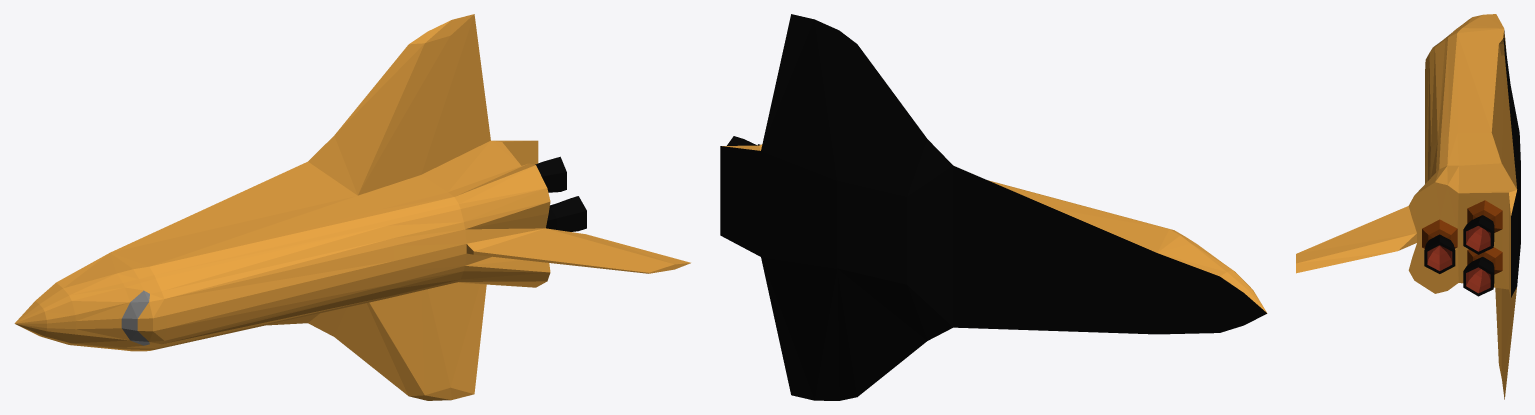
Rendered from shuttle.obj.
The picture shows the model from 3 angles, left to right: view 1: azimuth 30°, elevation 25°; view 2: azimuth 150°, elevation 25°; view 3: azimuth 270°, elevation 25°; orthographic projection. The views are drawn at different scales.
Parts seen in each view (by area): view 1: body, wings, tail, engout, windows, rearbody; view 2: tiles, body; view 3: body, rearbody, tail, wings, engmount, tiles, enginside, engrim, engout.
Part boxes in pixels (bbox=[...]): body: bbox=[14, 140, 550, 351]; wings: bbox=[111, 14, 490, 400]; tail: bbox=[466, 228, 690, 273]; engout: bbox=[535, 156, 586, 231]; windows: bbox=[121, 290, 149, 345]; rearbody: bbox=[491, 140, 538, 165]; tiles: bbox=[720, 14, 1266, 400]; body: bbox=[988, 180, 1267, 313]; body: bbox=[1415, 14, 1516, 194]; rearbody: bbox=[1398, 182, 1516, 297]; tail: bbox=[1296, 206, 1416, 273]; wings: bbox=[1491, 30, 1516, 399]; engmount: bbox=[1422, 200, 1502, 274]; tiles: bbox=[1503, 38, 1520, 297]; enginside: bbox=[1427, 226, 1490, 293]; engrim: bbox=[1424, 222, 1493, 296]; engout: bbox=[1424, 215, 1494, 287].
Bounding box in the file's own units: 14.69 × 9.36 × 5.51.
